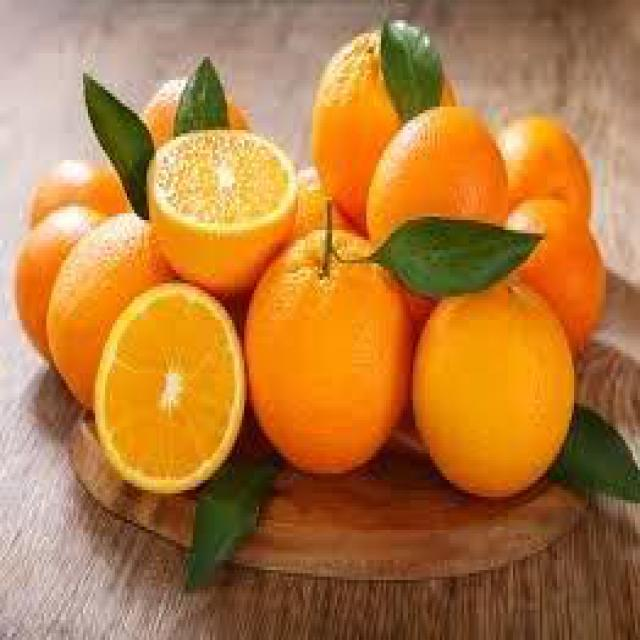orange: (246, 225, 411, 479), (412, 282, 574, 495), (312, 25, 456, 227), (46, 213, 176, 410), (503, 194, 604, 352), (14, 204, 108, 361), (496, 115, 592, 229), (142, 73, 248, 150), (29, 158, 130, 229)
